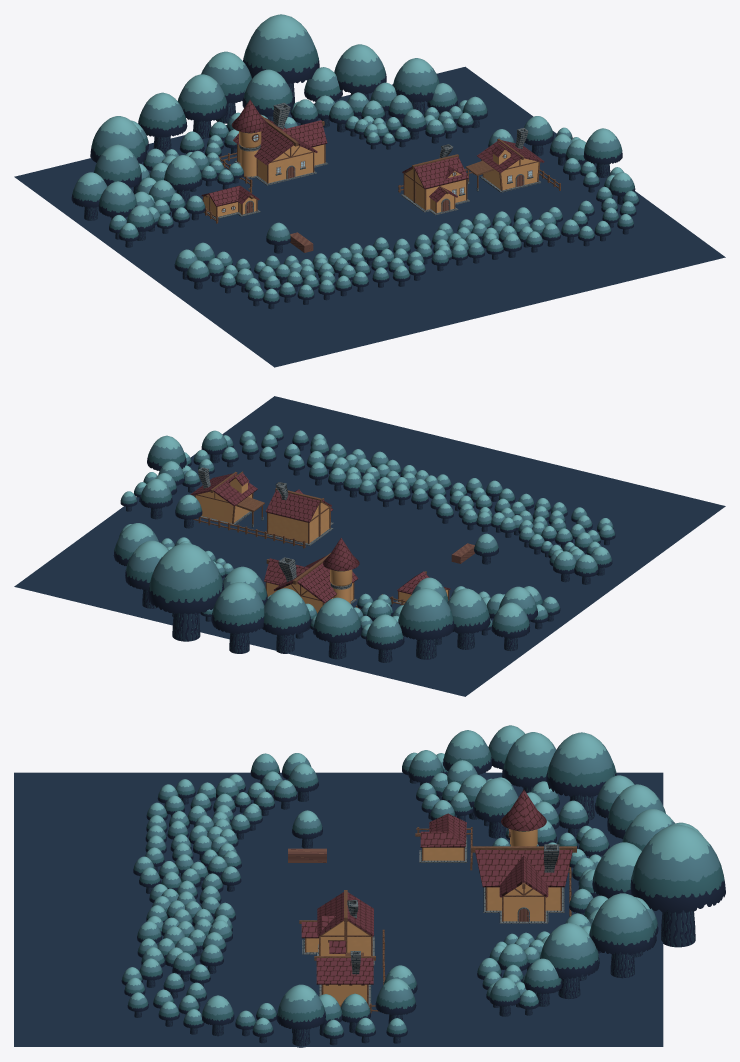
Rendered from Village Area.glb.
3 renders of one model, top to bottom at view 1: azimuth 30°, elevation 25°; view 2: azimuth 150°, elevation 25°; view 3: azimuth 270°, elevation 25°, orthographic. The views are drawn at different scales.
Parts seen in each view (by area): view 1: Ground, Placeholder Tree.145, Placeholder Tree.156, Placeholder Tree.079, Placeholder Tree.155, Roof.002, Placeholder Tree.157, Placeholder Tree.158, Placeholder Tree.153, Placeholder Tree.159, Placeholder Tree.152, Placeholder Tree.135 (+14 smaller); view 2: Ground, Placeholder Tree.145, Placeholder Tree.153, Placeholder Tree.157, Placeholder Tree.156, Placeholder Tree.155, Placeholder Tree.152, Roof.002, Placeholder Tree.079, Wall, Placeholder Tree.151, Placeholder Tree.154 (+14 smaller); view 3: Ground, Placeholder Tree.145, Placeholder Tree.079, Placeholder Tree.153, Roof.002, Placeholder Tree.158, Placeholder Tree.152, Placeholder Tree.135, Placeholder Tree.159, Placeholder Tree.010, Placeholder Tree.155, Roof.001 (+26 smaller).
Boxes of the visible parts, x1,y1,x2,y2 form: Ground: (14,66,725,367); Placeholder Tree.145: (243,14,319,103); Placeholder Tree.156: (178,74,227,138); Placeholder Tree.079: (334,44,386,101); Placeholder Tree.155: (138,92,187,154); Roof.002: (233,118,327,165); Placeholder Tree.157: (201,51,251,123); Placeholder Tree.158: (393,58,439,115); Placeholder Tree.153: (90,116,146,163); Placeholder Tree.159: (242,69,293,121); Placeholder Tree.152: (94,144,141,187); Placeholder Tree.135: (583,128,622,177); Ground: (14,396,725,696); Placeholder Tree.145: (148,543,224,641); Placeholder Tree.153: (398,588,454,659); Placeholder Tree.157: (211,582,264,653); Placeholder Tree.156: (262,588,310,653); Placeholder Tree.155: (313,597,361,659); Placeholder Tree.152: (447,588,490,649); Roof.002: (264,556,358,603); Placeholder Tree.079: (125,540,168,608); Wall: (268,503,329,543); Placeholder Tree.151: (491,602,529,651); Placeholder Tree.154: (366,614,404,662); Ground: (14,772,663,1046); Placeholder Tree.145: (630,824,725,947); Placeholder Tree.079: (589,893,656,978); Placeholder Tree.153: (546,732,616,820); Roof.002: (475,850,572,897); Placeholder Tree.158: (540,923,599,999); Placeholder Tree.152: (503,732,556,792); Placeholder Tree.135: (276,984,325,1047); Placeholder Tree.159: (592,842,641,898); Placeholder Tree.010: (473,778,518,838); Placeholder Tree.155: (607,784,665,839); Roof.001: (316,958,373,984).
Bounding box in the file's own units: 102 × 19.26 × 110.
9 materials, 7 textured.
